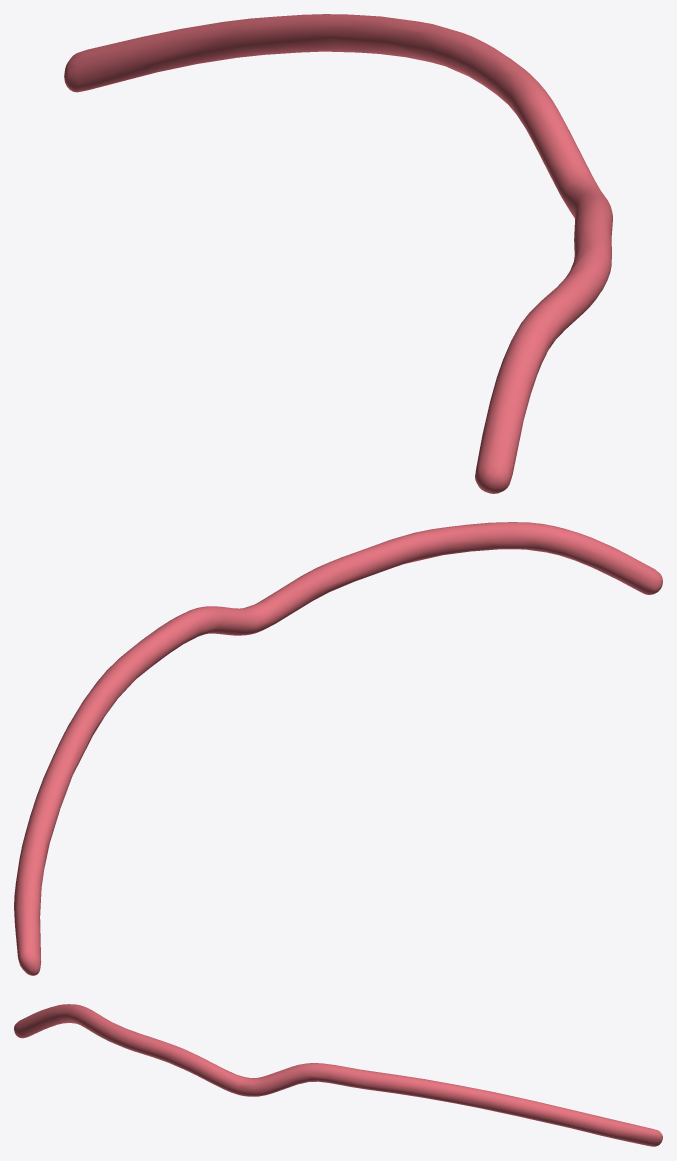
Rendered from fma44882_fj2061m.glb.
3 views of the same model, one above another, from view 1: azimuth 30°, elevation 25°; view 2: azimuth 150°, elevation 25°; view 3: azimuth 270°, elevation 25° (orthographic). The views are drawn at different scales.
Visible parts, largest first — view 1: FMA44882_FJ2061M; view 2: FMA44882_FJ2061M; view 3: FMA44882_FJ2061M.
Boxes of the visible parts, box(x1,y1,x2,y2) form: FMA44882_FJ2061M: box(64, 14, 612, 493); FMA44882_FJ2061M: box(14, 522, 662, 975); FMA44882_FJ2061M: box(14, 1004, 662, 1146).
Size of the model in its own units: 0.026 by 0.0148 by 0.0767.
